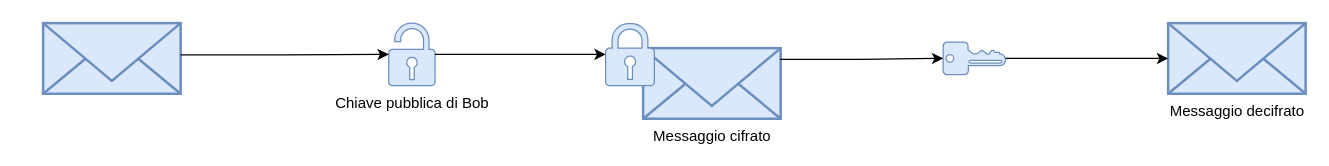
Image size: 1329x166. Some labels were removed from this diagram. Each missing label, with the box of its shape:
Chiave privata di Bob: (942, 41, 1006, 75)
Messaggio di Alice per Bob: (41, 21, 181, 94)
